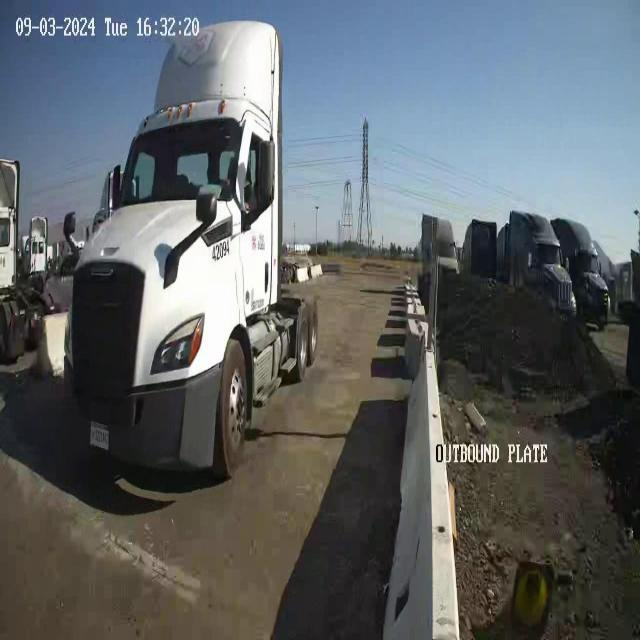BOBTAIL: (62, 19, 318, 482)
